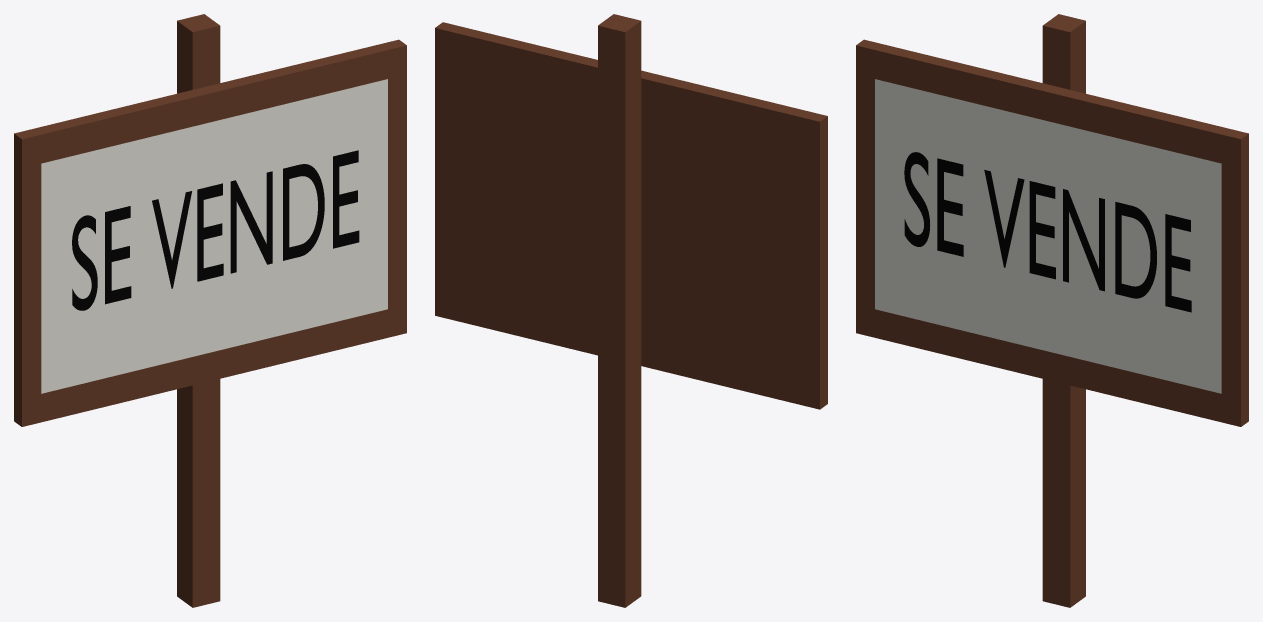
Rendered from Cartel_Se_Vende.fbx.
3 views of the same model, side by side, from view 1: azimuth 30°, elevation 25°; view 2: azimuth 150°, elevation 25°; view 3: azimuth 330°, elevation 25° (orthographic).
Visible parts, largest first — view 1: Plane, Cube.001, Text; view 2: Plane, Cube.001; view 3: Plane, Cube.001, Text.
Boxes of the visible parts, x1=… form: Plane: x1=14, y1=39, x2=406, y2=426; Cube.001: x1=177, y1=14, x2=220, y2=607; Text: x1=72, y1=150, x2=359, y2=310; Plane: x1=435, y1=22, x2=827, y2=409; Cube.001: x1=598, y1=14, x2=641, y2=607; Plane: x1=856, y1=39, x2=1248, y2=426; Cube.001: x1=1042, y1=14, x2=1085, y2=607; Text: x1=904, y1=152, x2=1191, y2=312.
Size of the model in its own units: 140 by 200 by 15.53.
